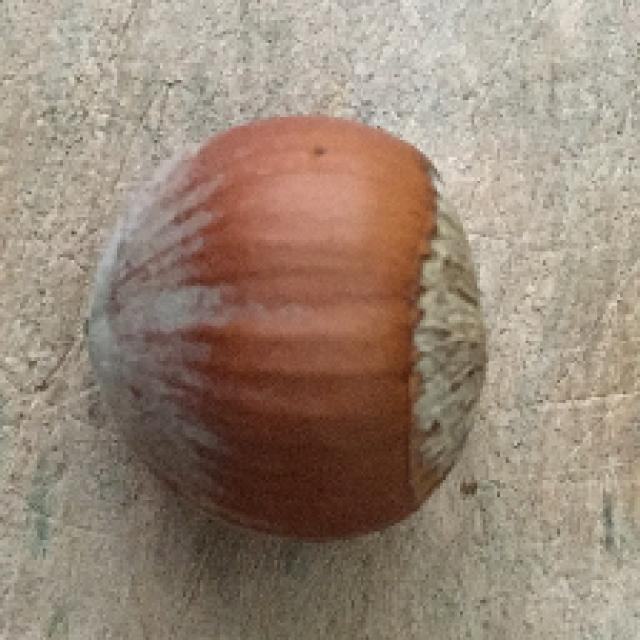QualityHazelnut: (78, 117, 488, 544)
